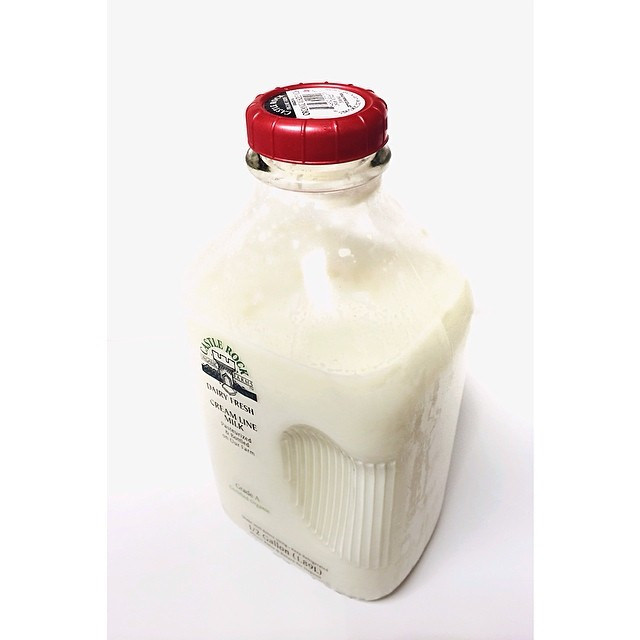glass of milk: (188, 82, 480, 621)
